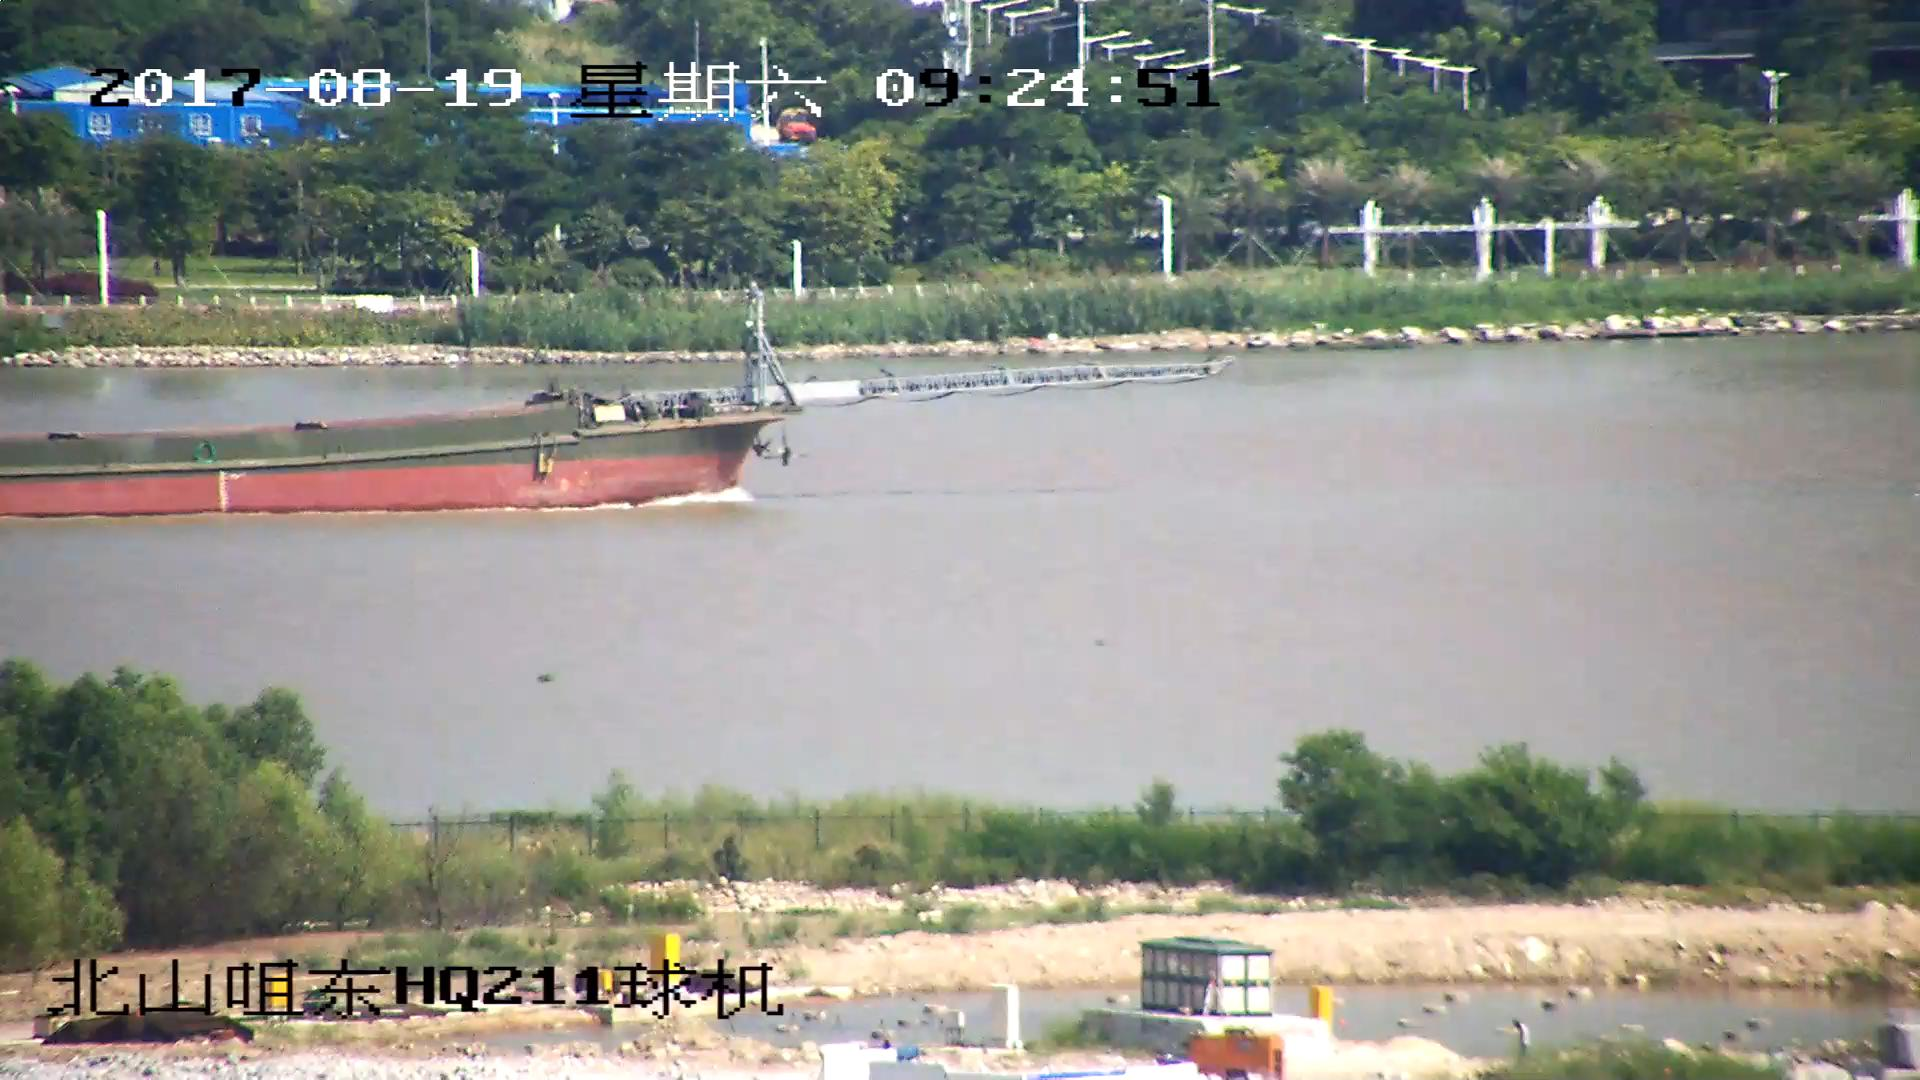bulk cargo carrier: (1, 293, 1225, 516)
